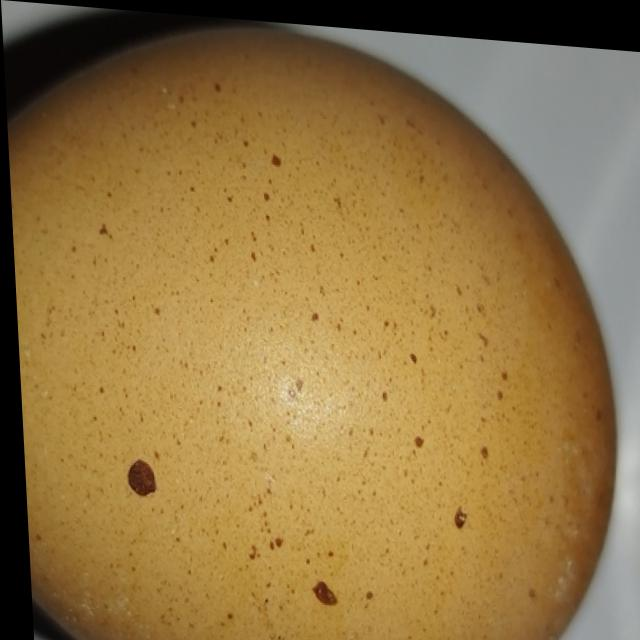unfresh: (0, 0, 631, 640)
